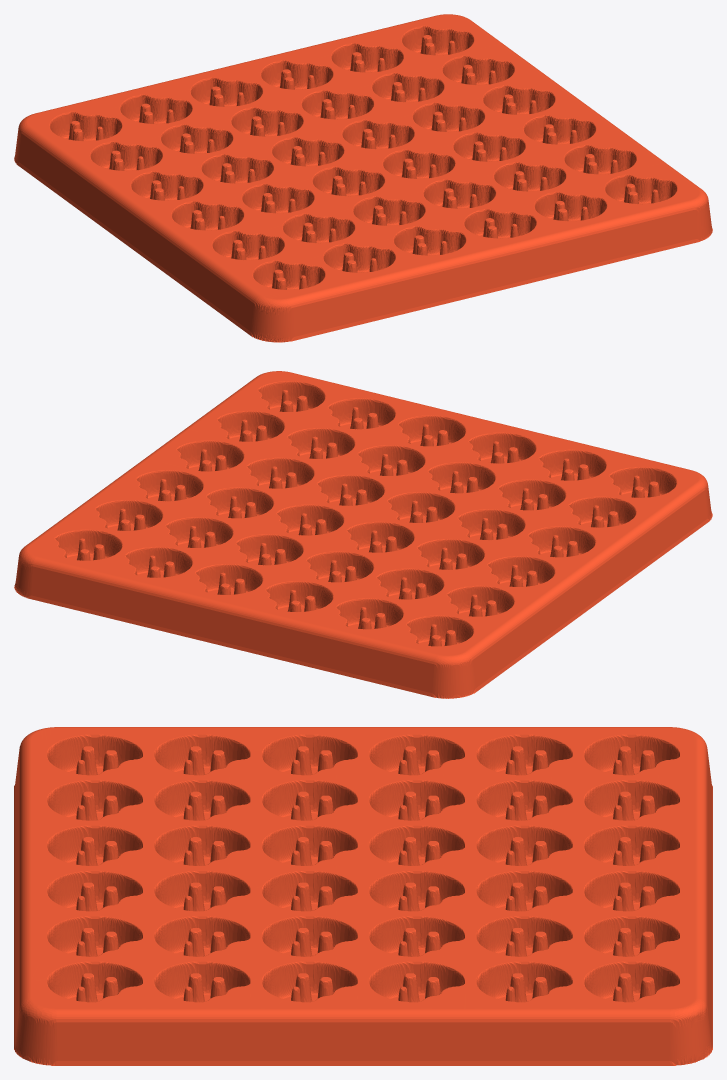
File: mold.glb
3 renders of one model, top to bottom at view 1: azimuth 30°, elevation 25°; view 2: azimuth 150°, elevation 25°; view 3: azimuth 270°, elevation 25°, orthographic. The views are drawn at different scales.
Parts seen in each view (by area): view 1: geometry_0; view 2: geometry_0; view 3: geometry_0.
Part boxes in pixels (left/top/right/bottom): geometry_0: left=14, top=14, right=712, bottom=342; geometry_0: left=14, top=371, right=712, bottom=698; geometry_0: left=14, top=727, right=712, bottom=1065.
Bounding box in the file's own units: 0.1447 × 0.0114 × 0.1447.
